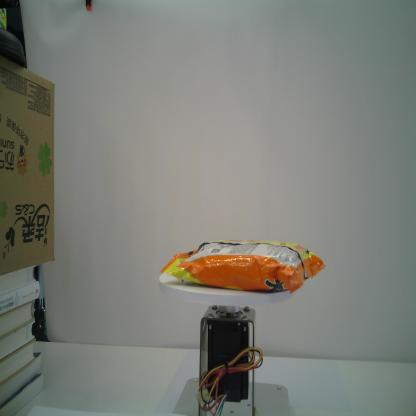Instant Noodles: (160, 240, 325, 294)
